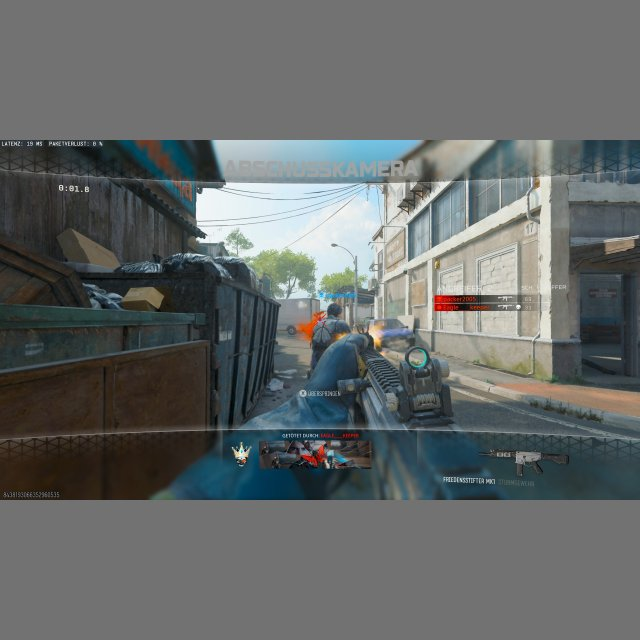head: (327, 302, 342, 318)
player: (305, 302, 351, 379)
